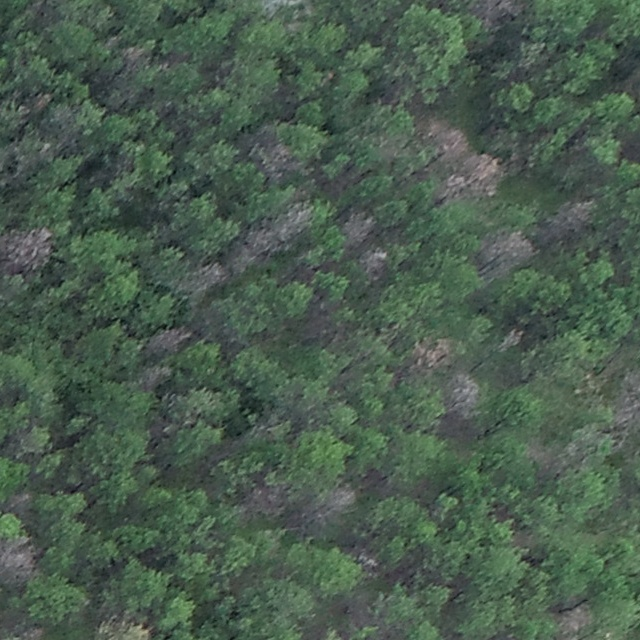unhealthy: (234, 196, 313, 272), (442, 152, 506, 203), (478, 227, 536, 276), (1, 225, 55, 271), (542, 196, 597, 240), (251, 135, 301, 181), (425, 116, 470, 160), (0, 536, 39, 584), (240, 481, 288, 518), (184, 259, 231, 295), (612, 370, 639, 429), (408, 336, 452, 371), (444, 370, 479, 414), (318, 482, 361, 517), (471, 0, 528, 26), (145, 325, 194, 354), (341, 207, 378, 244), (256, 0, 315, 18), (523, 439, 556, 471), (359, 246, 388, 282), (138, 362, 173, 389), (350, 544, 381, 571), (120, 44, 147, 71), (500, 325, 527, 350), (5, 489, 35, 511), (28, 90, 54, 112), (18, 624, 47, 639)
